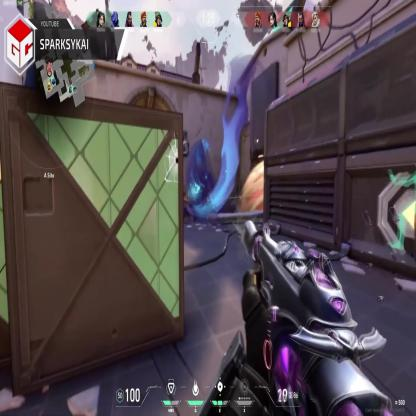enemy: (182, 190, 189, 222)
enemy_head: (182, 190, 186, 198)
